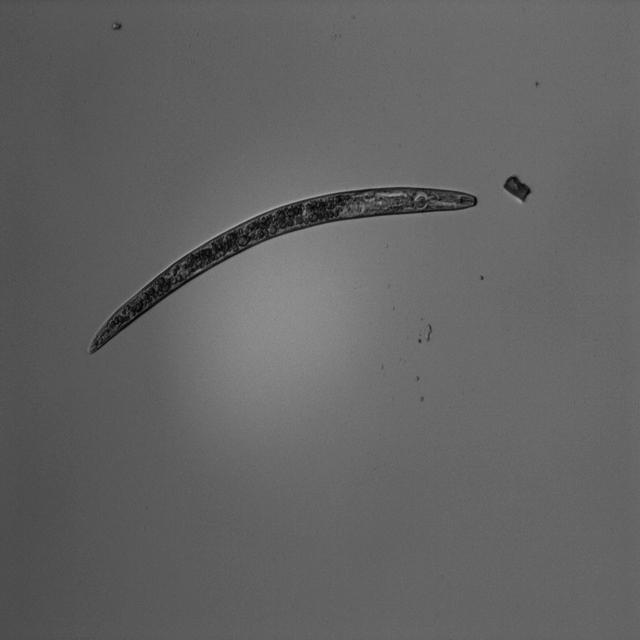Pratylenchus: (83, 176, 489, 359)
